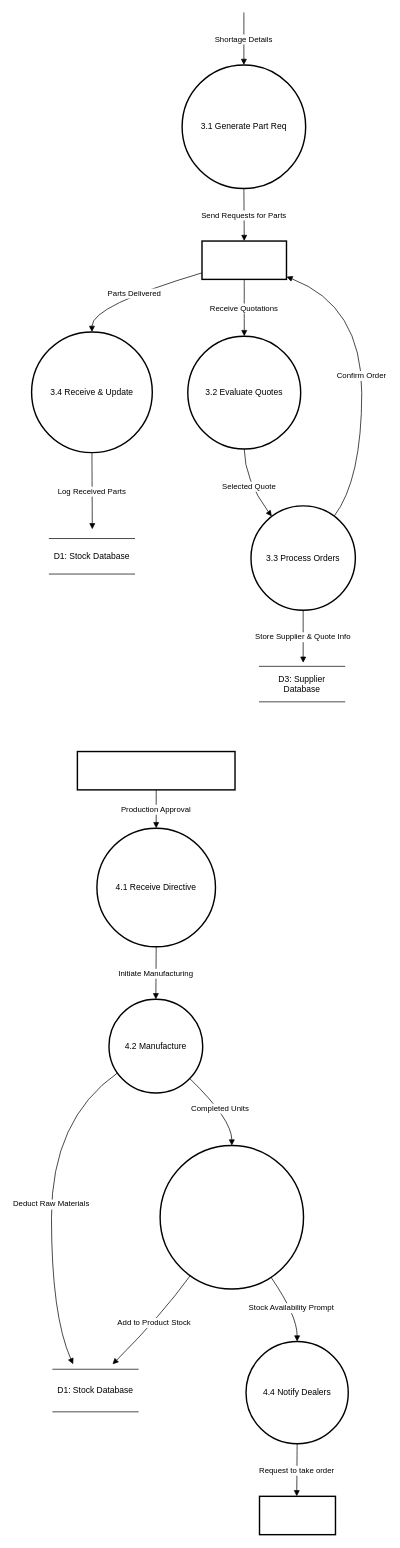
Some shapes in this 400 by 1548 pixel diagram are drawn without their labels. The shapes that lost their labels are listed below. From the top down, each one's centre as x and y in pixels, then its label:
At (244,260): "Supplier".
At (155,770): "Management Authority".
At (231,1217): "4.3 Update Finished Stock".
At (297,1515): "Dealer".
